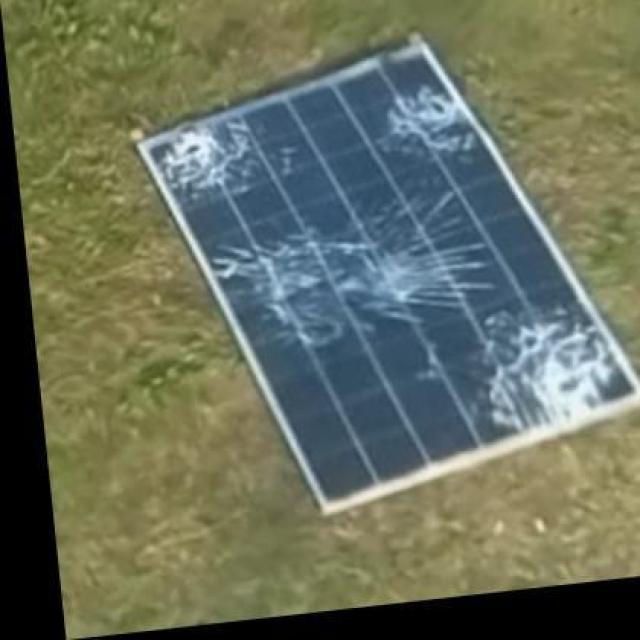cracked: (130, 32, 638, 518)
